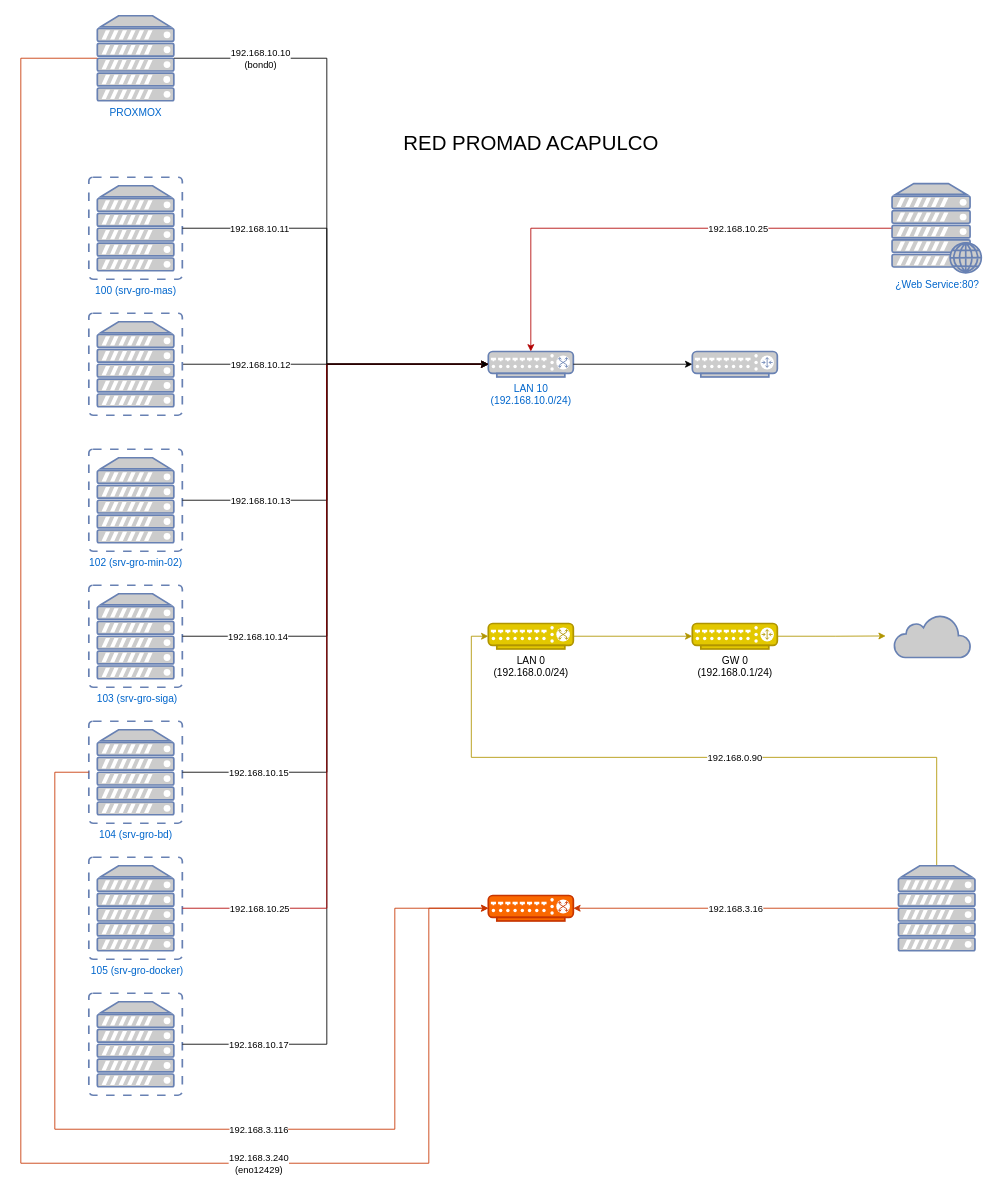
Some shapes in this 997 by 1189 pixel diagram are drawn without their labels. The box of each missing label's shape, as (x1, y1, x2, y2) in pixels:
101 (srv-gro-min-01): (88, 312, 183, 416)
106 (srv-gro-zabbix): (88, 992, 183, 1096)
ANYDESK PowerEdge R250 (DDRVDZ3): (897, 864, 975, 951)
GW 10 (192.168.10.1/24): (691, 350, 778, 377)
LAN 3 (192.168.3.0/24): (487, 894, 574, 921)
